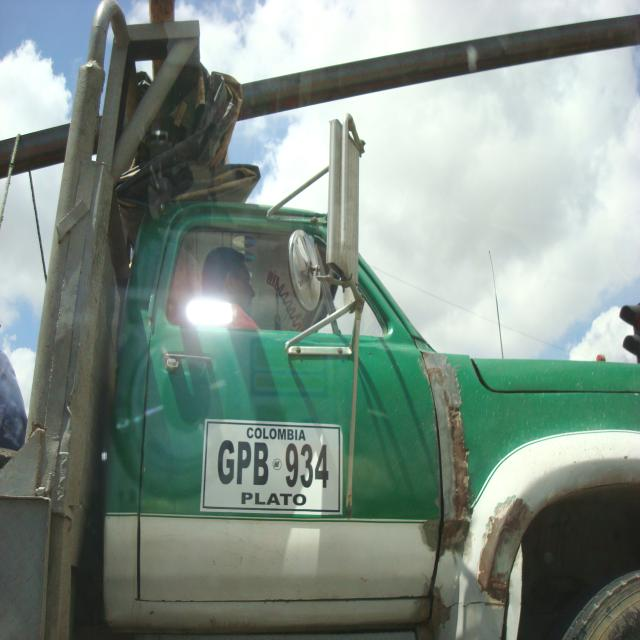placa: (197, 414, 346, 521)
